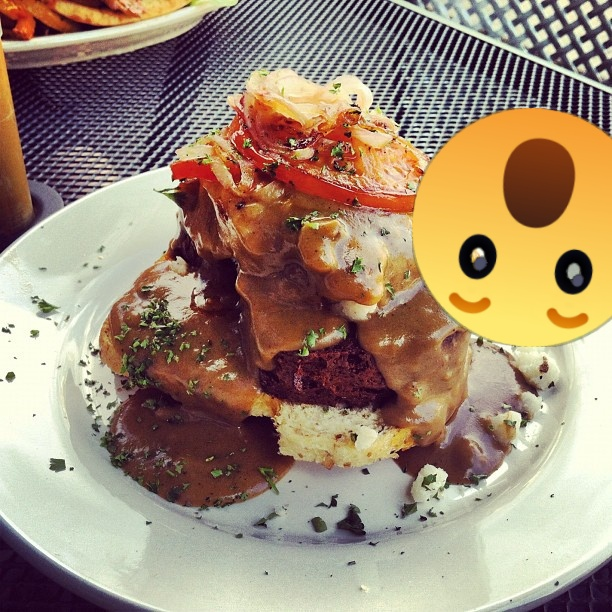wow: (412, 108, 612, 347)
